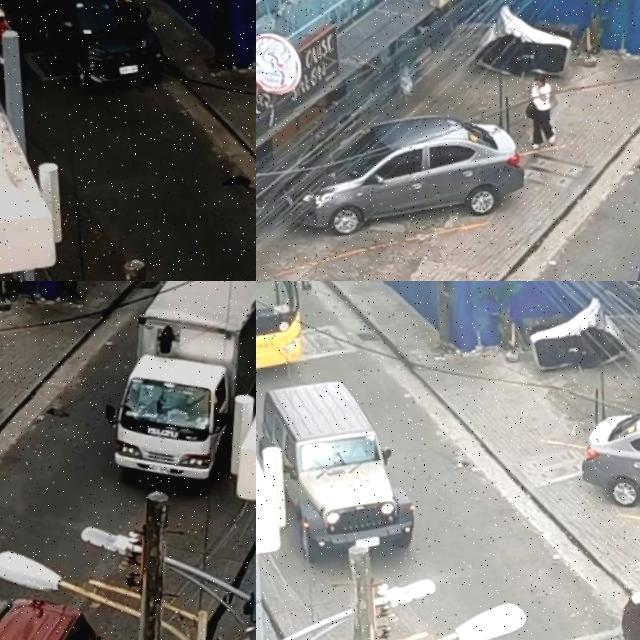Others: (256, 281, 306, 374)
